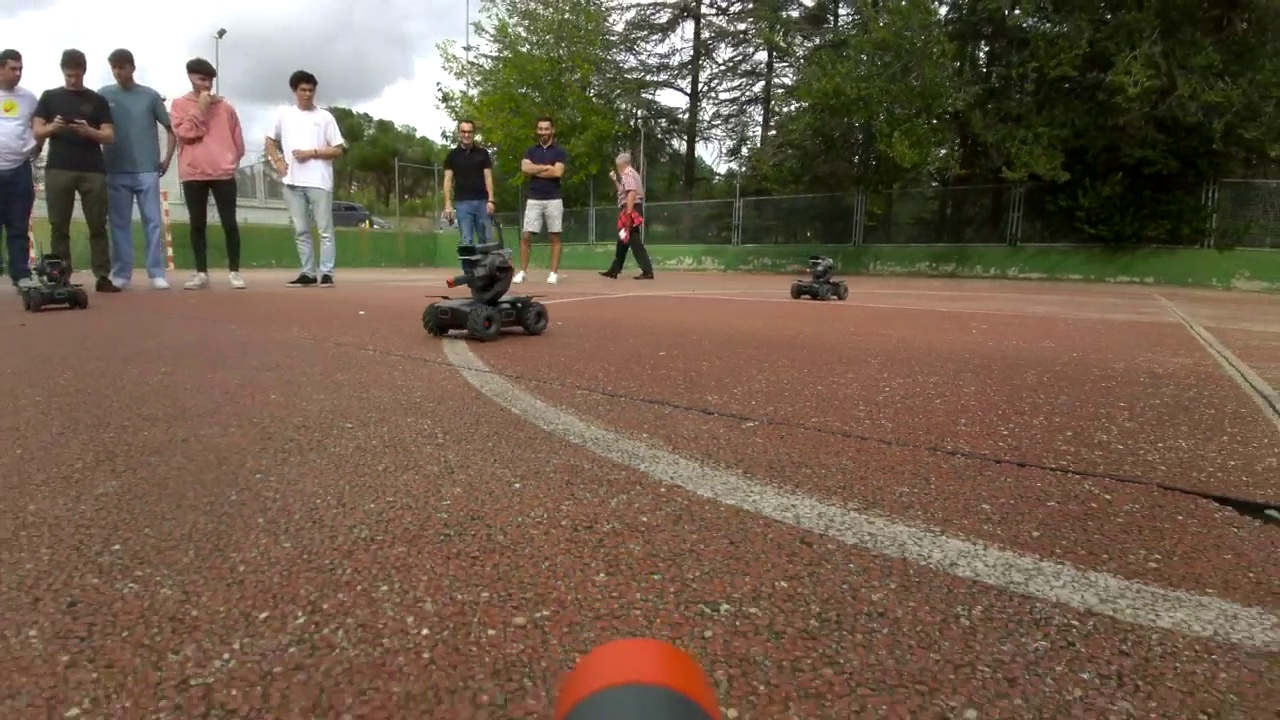robot: (424, 243, 549, 342), (20, 255, 88, 310), (792, 255, 847, 299)
